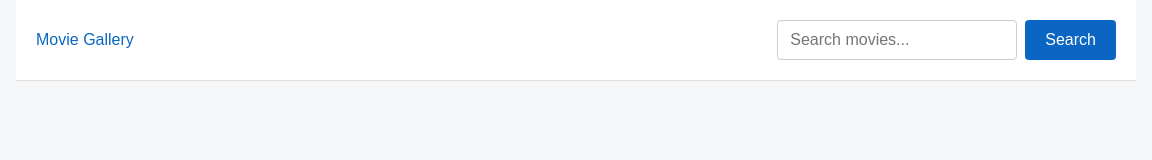
Test case: Movie Gallery › shows the required toast when the search field is empty
What coordinates should you click on to do the following:
click the button "Search"
I would click on:
 (1071, 40)
Its box is top-left (1025, 20), bottom-right (1116, 60).
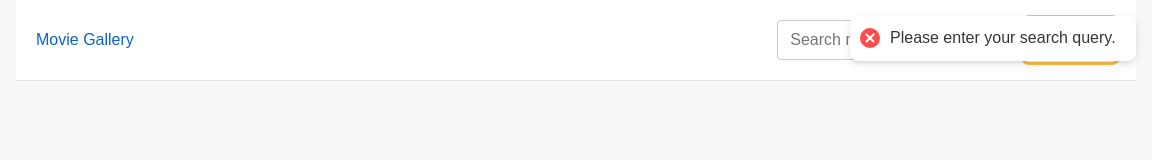
expect the text "Please enter your search query." is shown: met, box top-left (890, 28), bottom-right (1116, 49)
